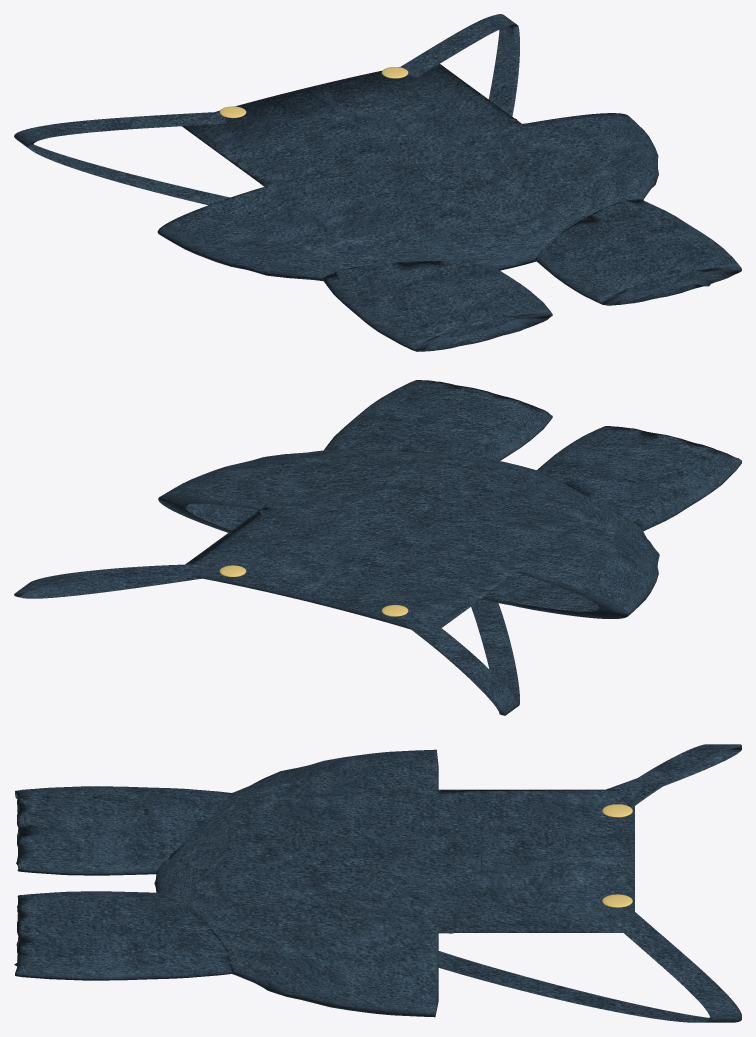
The model's file is overalls1.fbx.
3 views of the same model, one above another, from view 1: azimuth 30°, elevation 25°; view 2: azimuth 150°, elevation 25°; view 3: azimuth 270°, elevation 25° (orthographic). The views are drawn at different scales.
Visible parts, largest first — view 1: overalls1; view 2: overalls1; view 3: overalls1.
Boxes of the visible parts, x1,y1,x2,y2 form: overalls1: (14,14,741,351); overalls1: (14,380,741,715); overalls1: (14,744,741,1022).
Bounding box in the file's own units: 0.9205 × 0.087 × 1.04.
2 materials, 1 textured.
